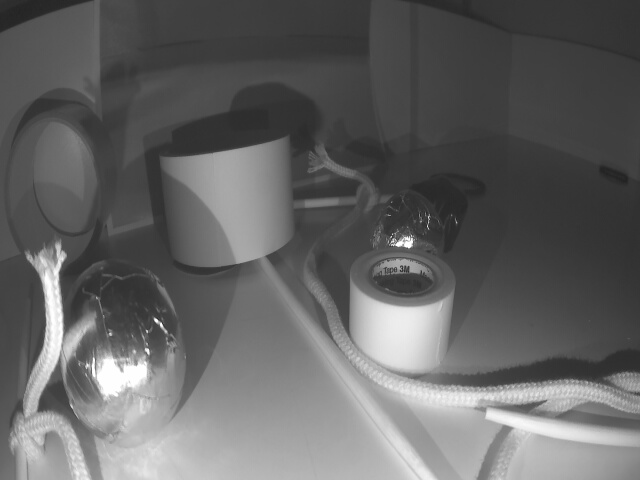Live: (54, 269, 192, 435), (376, 190, 439, 270)
